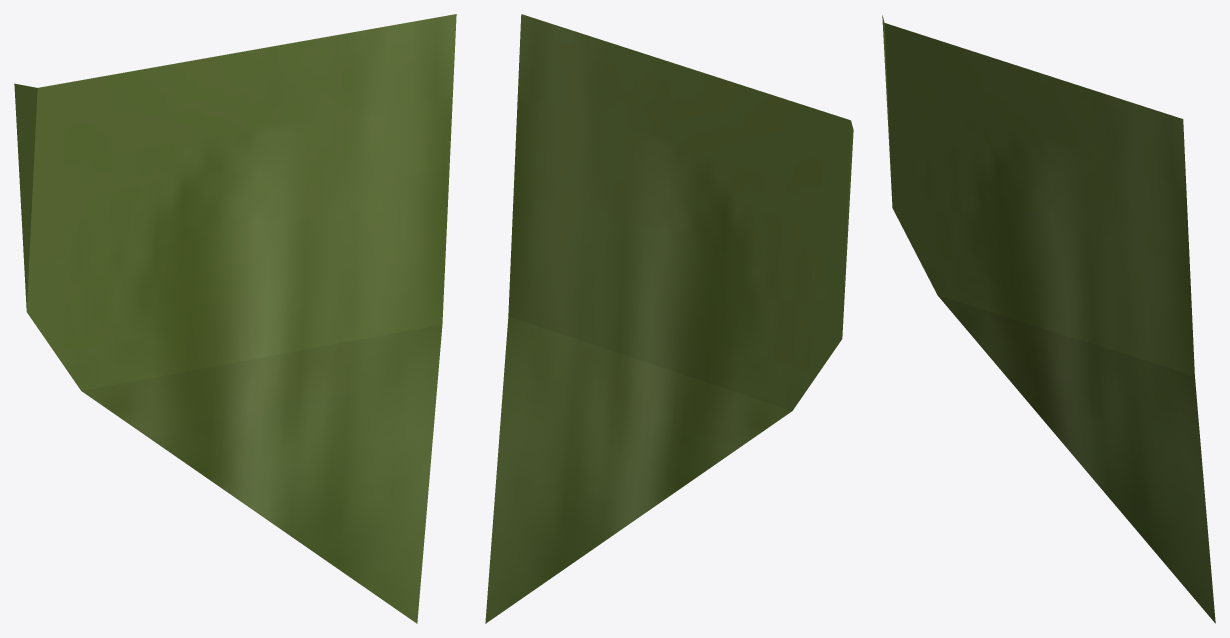
The picture shows the model from 3 angles, left to right: view 1: azimuth 30°, elevation 25°; view 2: azimuth 150°, elevation 25°; view 3: azimuth 330°, elevation 25°; orthographic projection. The views are drawn at different scales.
Bounding box in the file's own units: 0.3878 × 0.5874 × 0.0654.
Materials: 1 (1 with a texture image).
